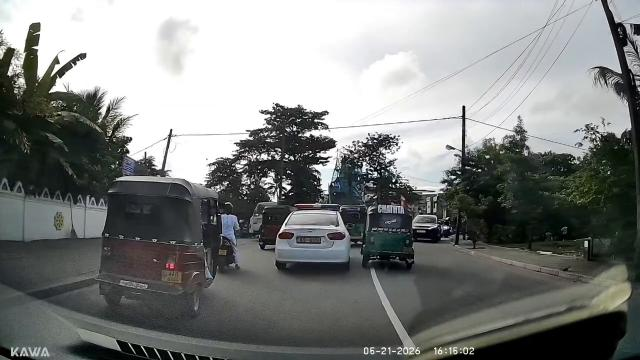illegal overtaking: (362, 200, 420, 275)
number plate: (159, 267, 189, 289)
